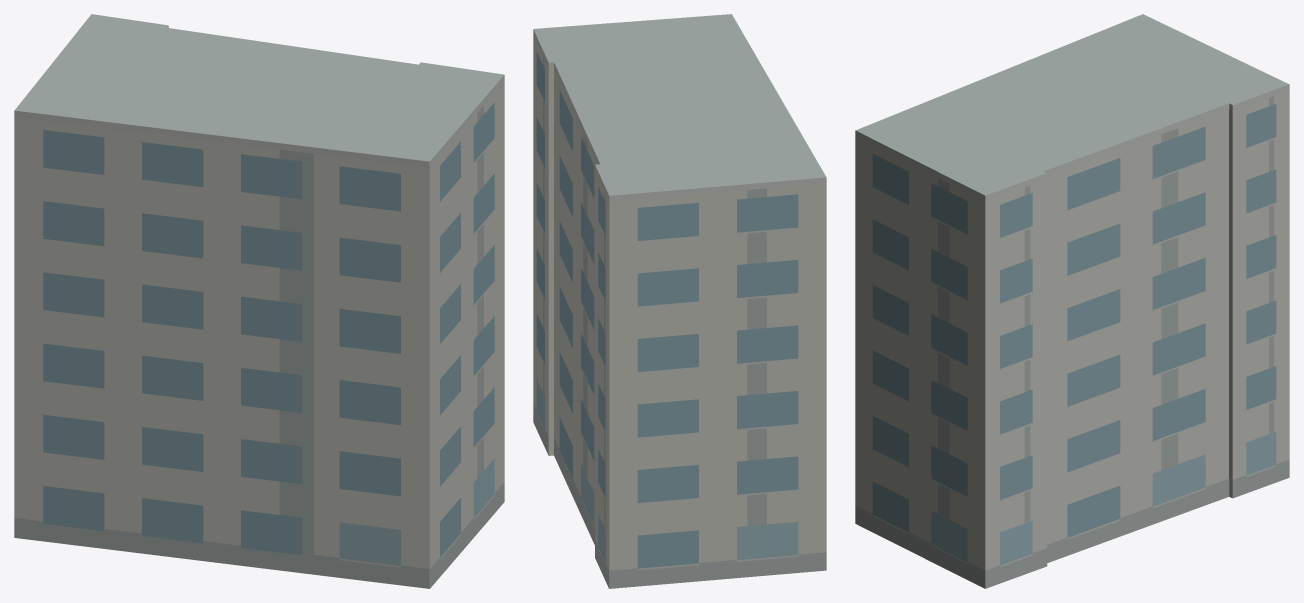
File: survey-upis-32842752.glb
3 views of the same model, side by side, from view 1: azimuth 30°, elevation 25°; view 2: azimuth 150°, elevation 25°; view 3: azimuth 270°, elevation 25° (orthographic). The views are drawn at different scales.
Visible parts, largest first — view 1: survey-upis-32842752.tmp; view 2: survey-upis-32842752.tmp; view 3: survey-upis-32842752.tmp.
Part boxes in pixels (x1,y1,x2,y2): survey-upis-32842752.tmp: (14,14,504,588); survey-upis-32842752.tmp: (533,14,826,588); survey-upis-32842752.tmp: (855,14,1289,588).
Bounding box in the file's own units: 15.66 × 15.8 × 15.81.
